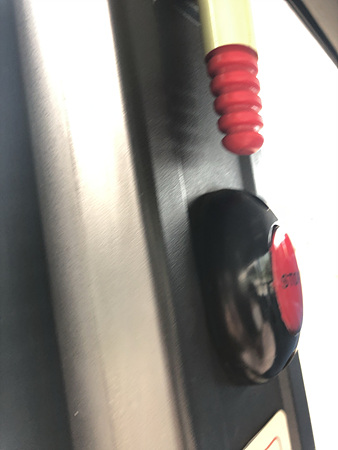bell: (188, 187, 314, 384)
